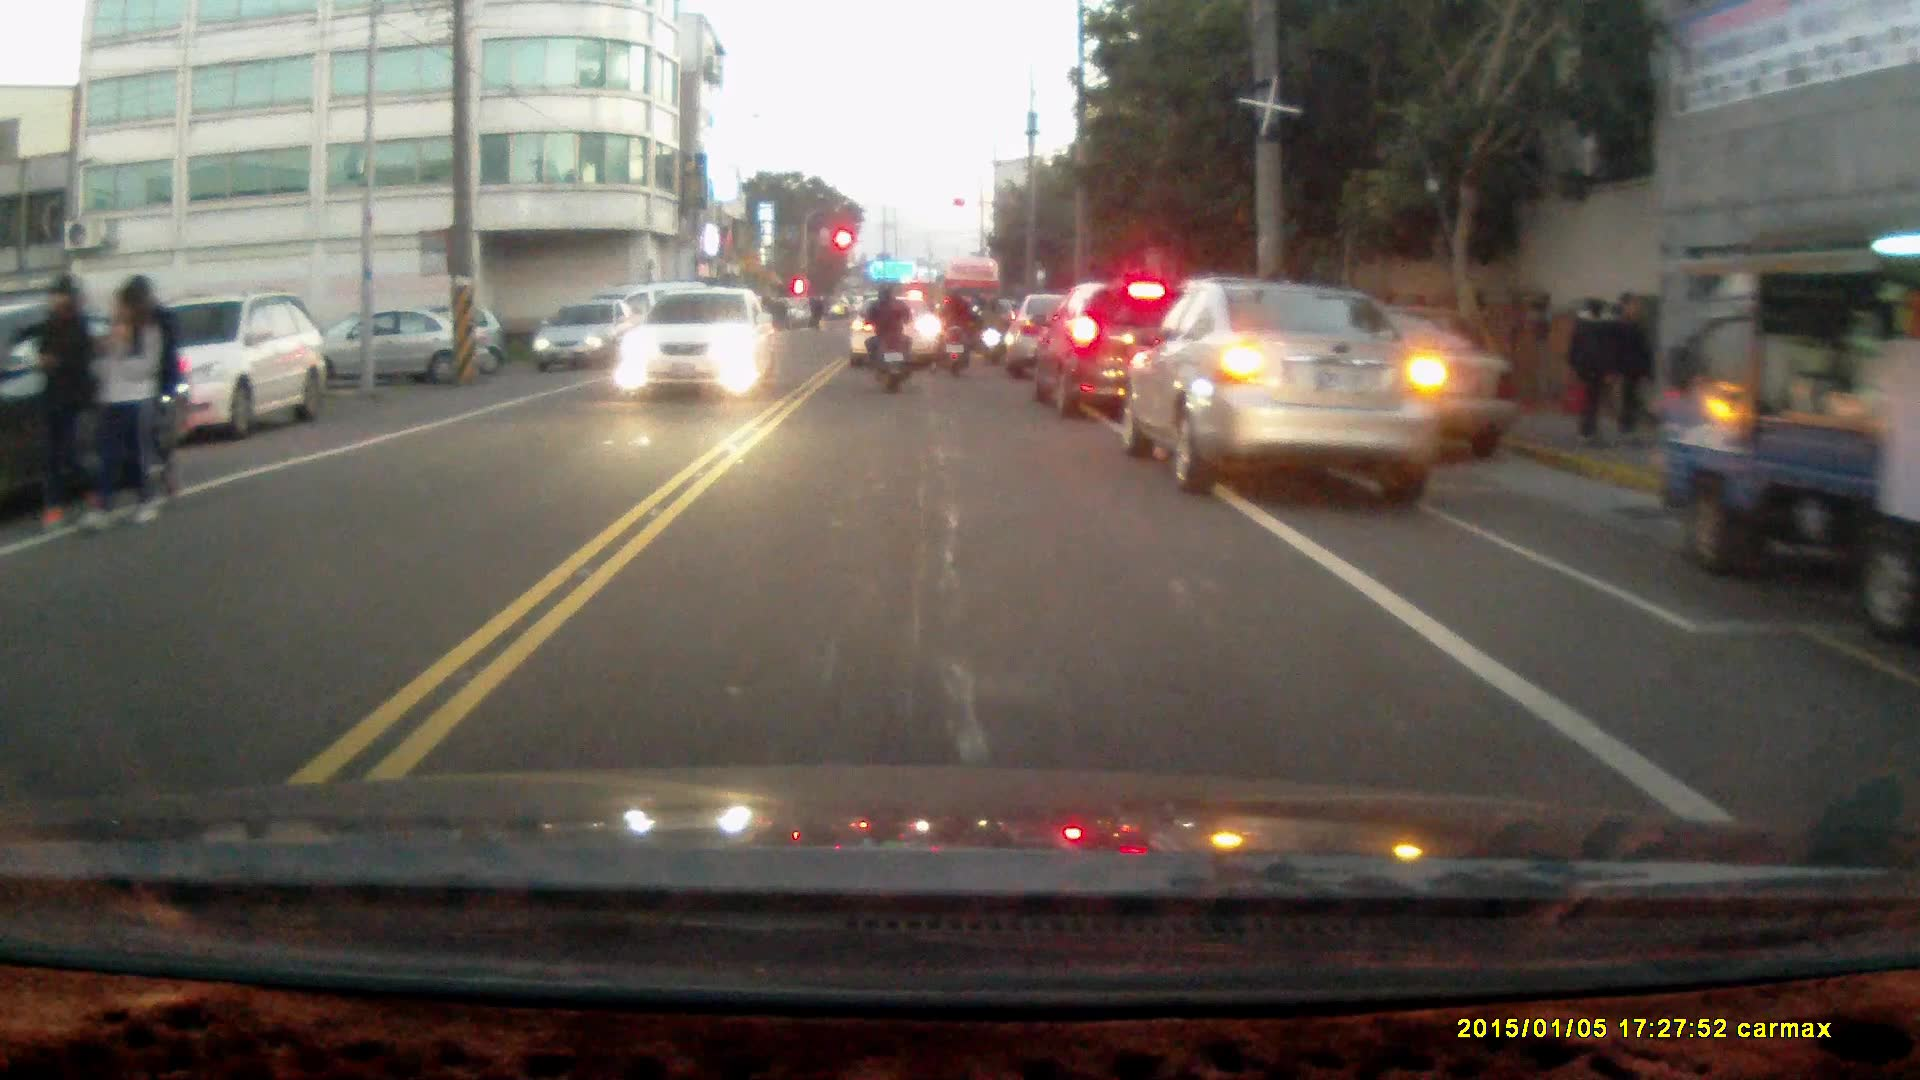pedestrian: (81, 279, 159, 538), (27, 270, 95, 527), (1603, 289, 1657, 442), (1566, 293, 1618, 444)
rider: (861, 277, 911, 395), (932, 282, 979, 379)
vehicle: (1662, 218, 1920, 618), (1130, 277, 1442, 499), (1, 301, 196, 532), (88, 290, 327, 439), (1038, 279, 1180, 418), (613, 288, 774, 396), (851, 292, 947, 365), (534, 300, 639, 368)
